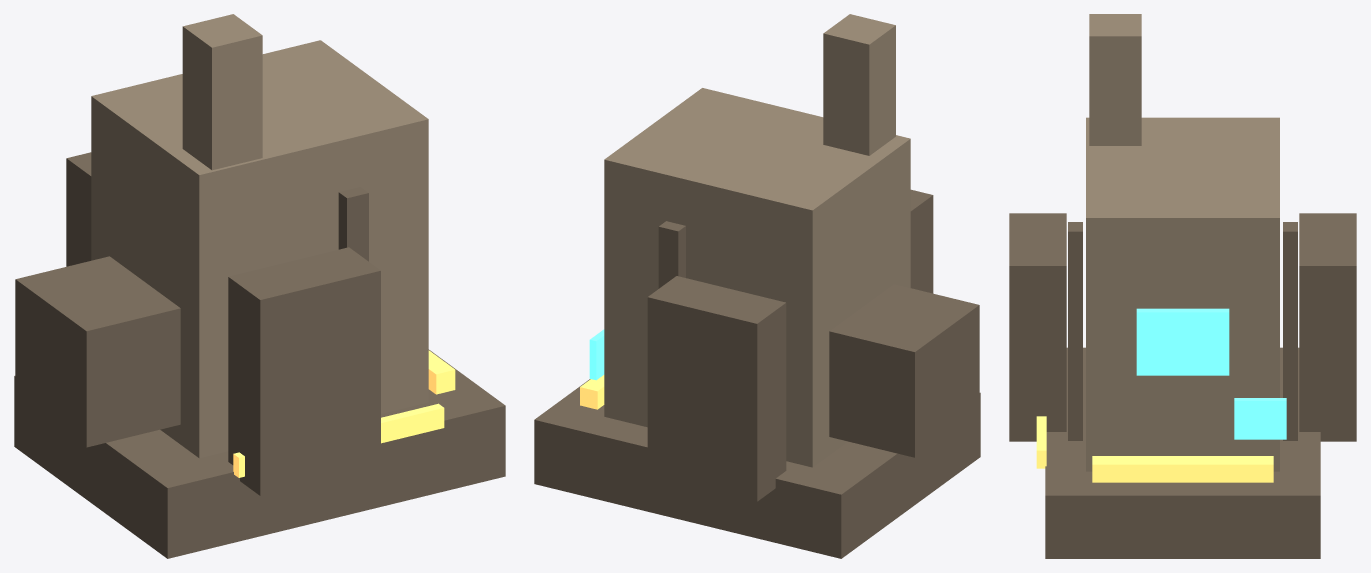
Rendered from refinery-processor-lod1.glb.
3 views of the same model, side by side, from view 1: azimuth 30°, elevation 25°; view 2: azimuth 150°, elevation 25°; view 3: azimuth 270°, elevation 25° (orthographic). The views are drawn at different scales.
Parts seen in each view (by area): view 1: refinery-processor-core, refinery-processor-base, refinery-processor-sidecar-left, refinery-processor-ore-intake, refinery-processor-exhaust-stack, refinery-processor-sidecar-right, refinery-processor-rib-left, refinery-processor-hazard-band, refinery-processor-service-line; view 2: refinery-processor-core, refinery-processor-base, refinery-processor-sidecar-right, refinery-processor-ore-intake, refinery-processor-exhaust-stack, refinery-processor-sidecar-left, refinery-processor-rib-right, refinery-processor-maintenance-screen, refinery-processor-service-line; view 3: refinery-processor-core, refinery-processor-base, refinery-processor-sidecar-right, refinery-processor-sidecar-left, refinery-processor-exhaust-stack, refinery-processor-status, refinery-processor-service-line, refinery-processor-rib-left, refinery-processor-rib-right, refinery-processor-maintenance-screen, refinery-processor-hazard-band.
Part boxes in pixels (x1,y1,x2,y2): refinery-processor-core: (91, 40, 428, 458); refinery-processor-base: (14, 349, 505, 558); refinery-processor-sidecar-left: (228, 247, 380, 495); refinery-processor-ore-intake: (15, 256, 180, 447); refinery-processor-exhaust-stack: (182, 14, 262, 170); refinery-processor-sidecar-right: (66, 152, 91, 266); refinery-processor-rib-left: (338, 187, 368, 261); refinery-processor-hazard-band: (233, 403, 444, 477); refinery-processor-service-line: (428, 350, 455, 394); refinery-processor-core: (604, 88, 910, 467); refinery-processor-base: (534, 379, 980, 558); refinery-processor-sidecar-right: (647, 276, 786, 501); refinery-processor-ore-intake: (829, 284, 979, 457); refinery-processor-exhaust-stack: (823, 14, 895, 155); refinery-processor-sidecar-left: (910, 189, 933, 293); refinery-processor-rib-right: (658, 221, 685, 288); refinery-processor-maintenance-screen: (589, 329, 604, 380); refinery-processor-service-line: (580, 375, 604, 409); refinery-processor-core: (1086, 117, 1279, 471); refinery-processor-base: (1045, 347, 1320, 558); refinery-processor-sidecar-right: (1299, 213, 1356, 441); refinery-processor-sidecar-left: (1009, 213, 1066, 441); refinery-processor-exhaust-stack: (1089, 14, 1141, 145); refinery-processor-status: (1136, 308, 1229, 375); refinery-processor-service-line: (1092, 456, 1273, 482); refinery-processor-rib-left: (1068, 222, 1082, 440); refinery-processor-rib-right: (1283, 222, 1297, 440); refinery-processor-maintenance-screen: (1234, 398, 1286, 439); refinery-processor-hazard-band: (1036, 416, 1046, 468).
Size of the model in its own units: 3.13 by 3.77 by 2.78.
